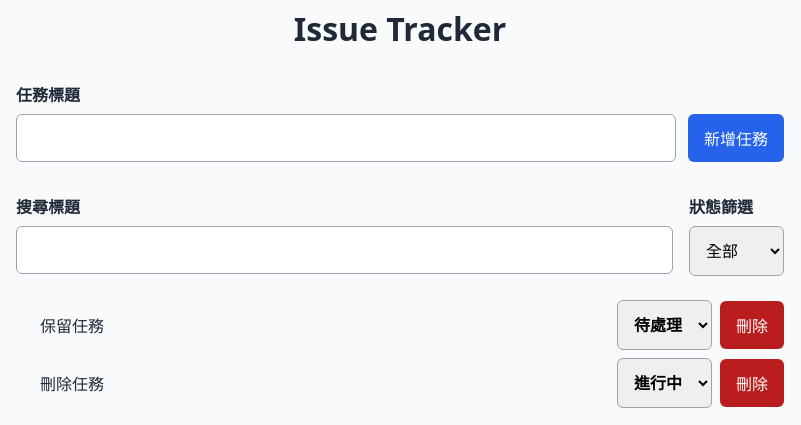
it: App › 確認後刪除任務並同步保存到 localStorage
The width and height of the screenshot is (801, 425).
What coordinates should you click on to do the following:
click the button with aria-label "刪除任務「刪除任務」"
I would click on:
 (752, 383)
Its box is [720,359,784,407].
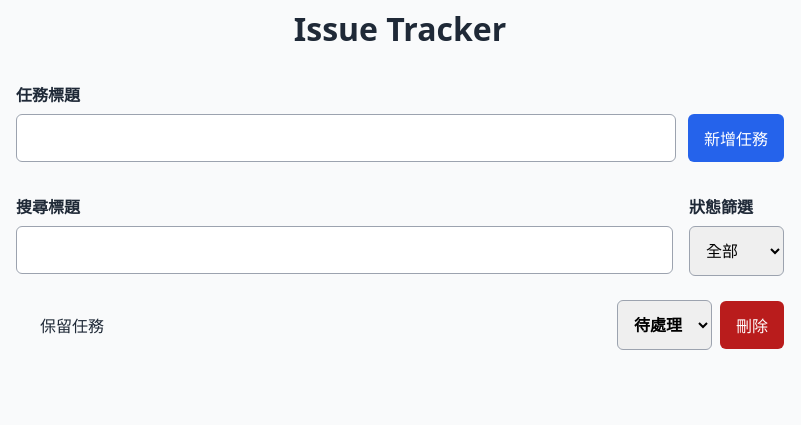
Check: the text "保留任務" is shown, box [40,313,104,337]
Check: the text "刪除任務" is gone
